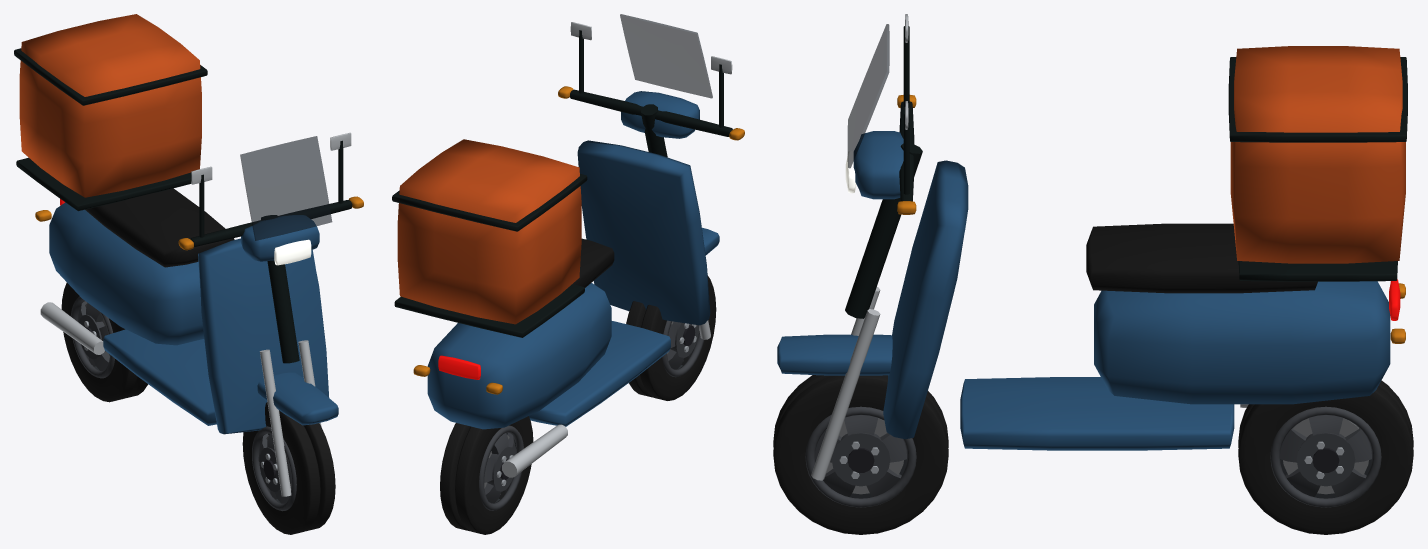
Rendered from car_scooter.glb.
3 views of the same model, side by side, from view 1: azimuth 30°, elevation 25°; view 2: azimuth 150°, elevation 25°; view 3: azimuth 270°, elevation 25° (orthographic). The views are drawn at different scales.
Parts seen in each view (by area): view 1: body, glass, wheel_FR_mesh, wheel_RR_mesh, wheel_FL_mesh, headlight; view 2: body, wheel_RR_mesh, glass, wheel_FR_mesh, wheel_RL_mesh, taillight, wheel_FL_mesh; view 3: body, wheel_RL_mesh, wheel_FL_mesh, glass, wheel_FR_mesh.
Part boxes in pixels (x1=…): body: x1=14, y1=14, x2=352, y2=496; glass: x1=240, y1=136, x2=332, y2=240; wheel_FR_mesh: x1=242, y1=402, x2=320, y2=534; wheel_RR_mesh: x1=61, y1=282, x2=137, y2=402; wheel_FL_mesh: x1=304, y1=423, x2=335, y2=531; headlight: x1=274, y1=239, x2=311, y2=265; body: x1=392, y1=22, x2=732, y2=477; wheel_RR_mesh: x1=455, y1=416, x2=533, y2=534; glass: x1=620, y1=14, x2=712, y2=98; wheel_FR_mesh: x1=639, y1=275, x2=716, y2=400; wheel_RL_mesh: x1=440, y1=423, x2=470, y2=531; taillight: x1=438, y1=355, x2=480, y2=379; wheel_FL_mesh: x1=626, y1=301, x2=652, y2=397; body: x1=777, y1=14, x2=1407, y2=480; wheel_RL_mesh: x1=1238, y1=387, x2=1413, y2=534; wheel_FL_mesh: x1=773, y1=375, x2=948, y2=534; glass: x1=847, y1=24, x2=889, y2=168; wheel_FR_mesh: x1=773, y1=375, x2=948, y2=447.
Bounding box in the file's own units: 0.7 × 1.39 × 1.68.
